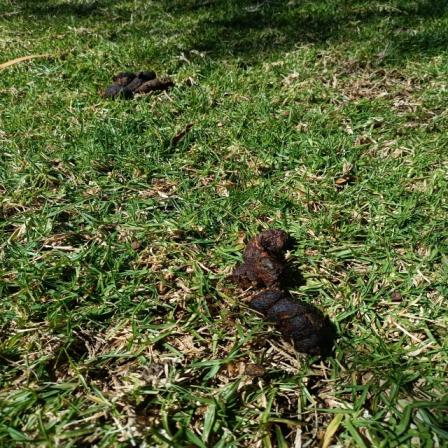dog-poop: (227, 218, 346, 358), (97, 64, 174, 102)
